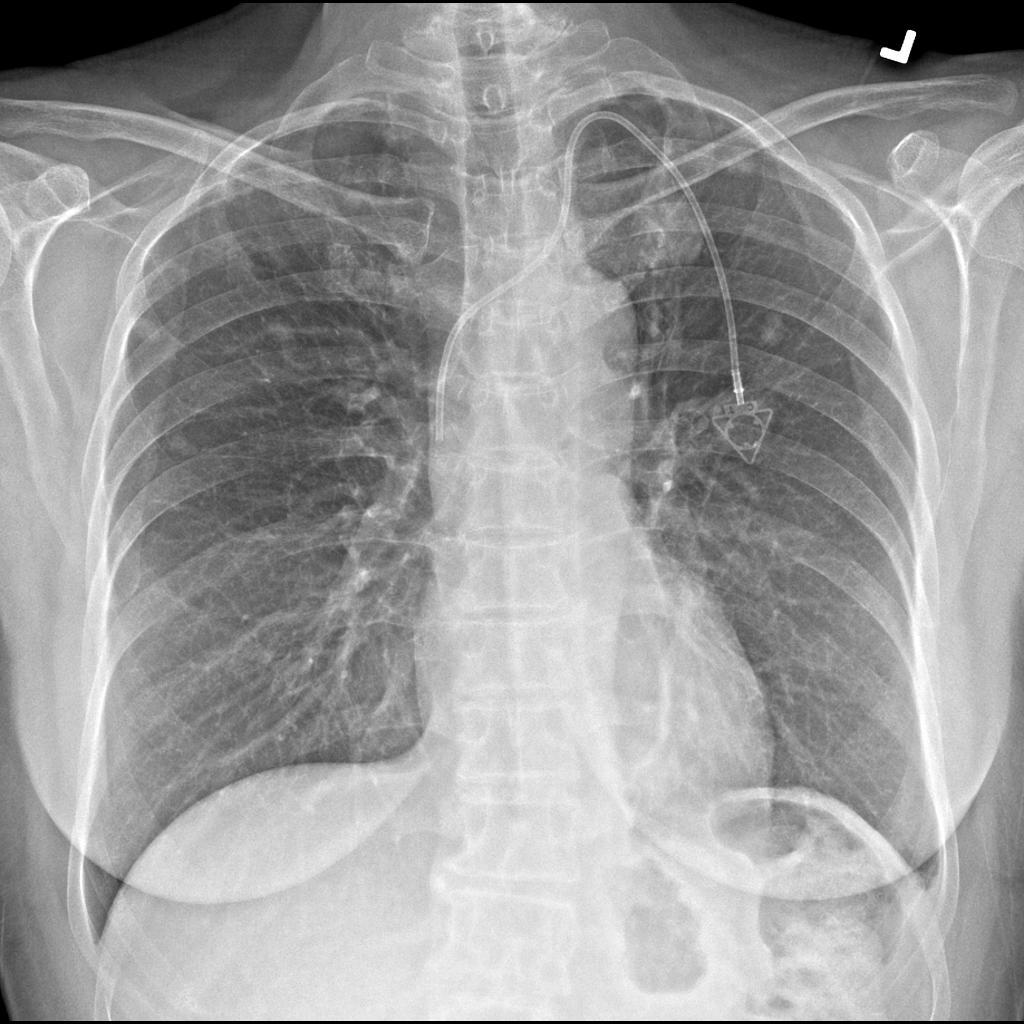Nodule: (616, 729, 687, 816), (259, 311, 303, 352), (758, 308, 787, 347)
